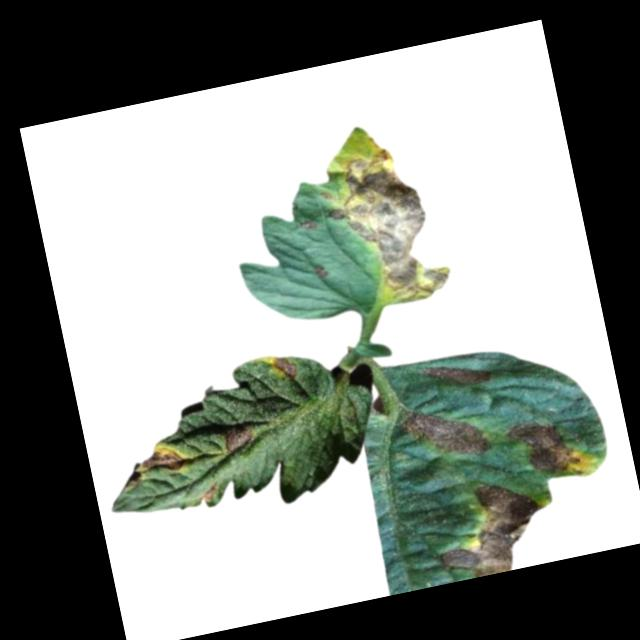Early_blight: (319, 140, 456, 314), (428, 474, 555, 583), (401, 396, 494, 471), (505, 412, 586, 487), (418, 352, 498, 399), (140, 439, 189, 480), (222, 426, 254, 456), (271, 354, 299, 384), (197, 479, 222, 506), (310, 262, 329, 282)
